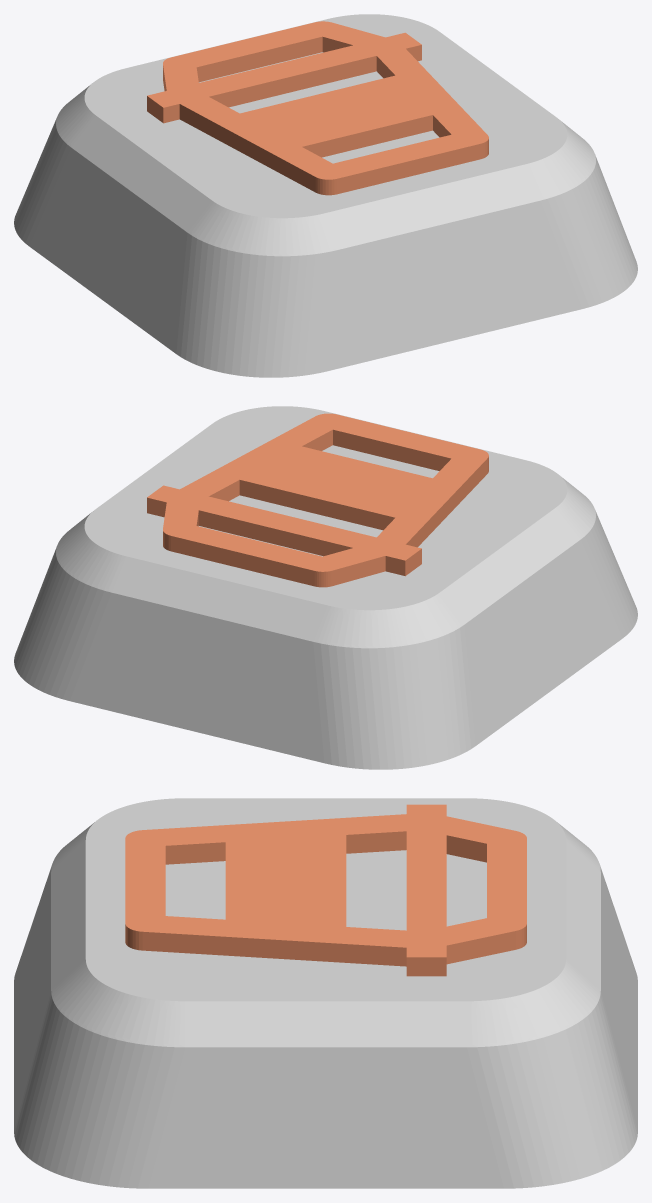
Rendered from cap-coffee.glb.
3 renders of one model, top to bottom at view 1: azimuth 30°, elevation 25°; view 2: azimuth 150°, elevation 25°; view 3: azimuth 270°, elevation 25°, orthographic. The views are drawn at different scales.
Visible parts, largest first — view 1: cap_0, glyph_1; view 2: cap_0, glyph_1; view 3: cap_0, glyph_1.
Boxes of the visible parts, box(x1,y1,x2,y2) form: cap_0: box(14, 14, 637, 377); glyph_1: box(147, 21, 488, 195); cap_0: box(14, 406, 637, 769); glyph_1: box(147, 413, 488, 587); cap_0: box(14, 798, 637, 1188); glyph_1: box(125, 804, 526, 976).
Bounding box in the file's own units: 18 × 5.6 × 18.
